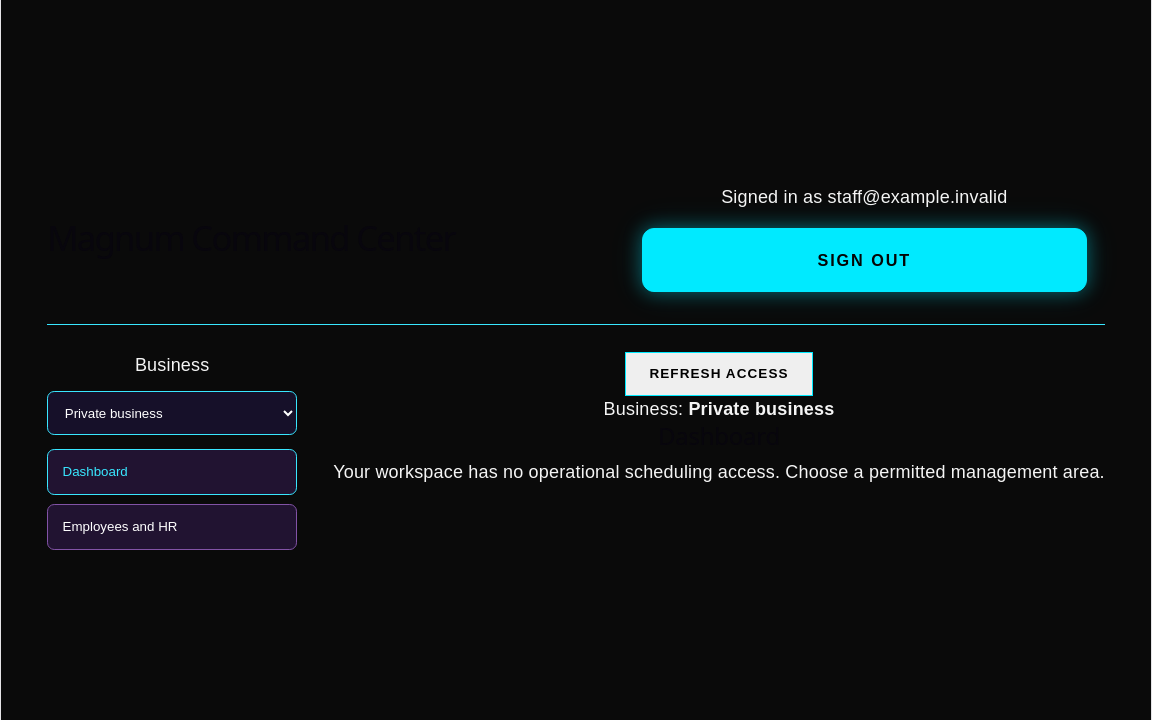
Scenario: refresh clears stale private context when permission has been revoked
Expected: the button "Employees and HR" is shown, top-left (47, 504), bottom-right (297, 550)
Click the button "Refresh access".
click(719, 374)  # box top-left (625, 352), bottom-right (813, 396)
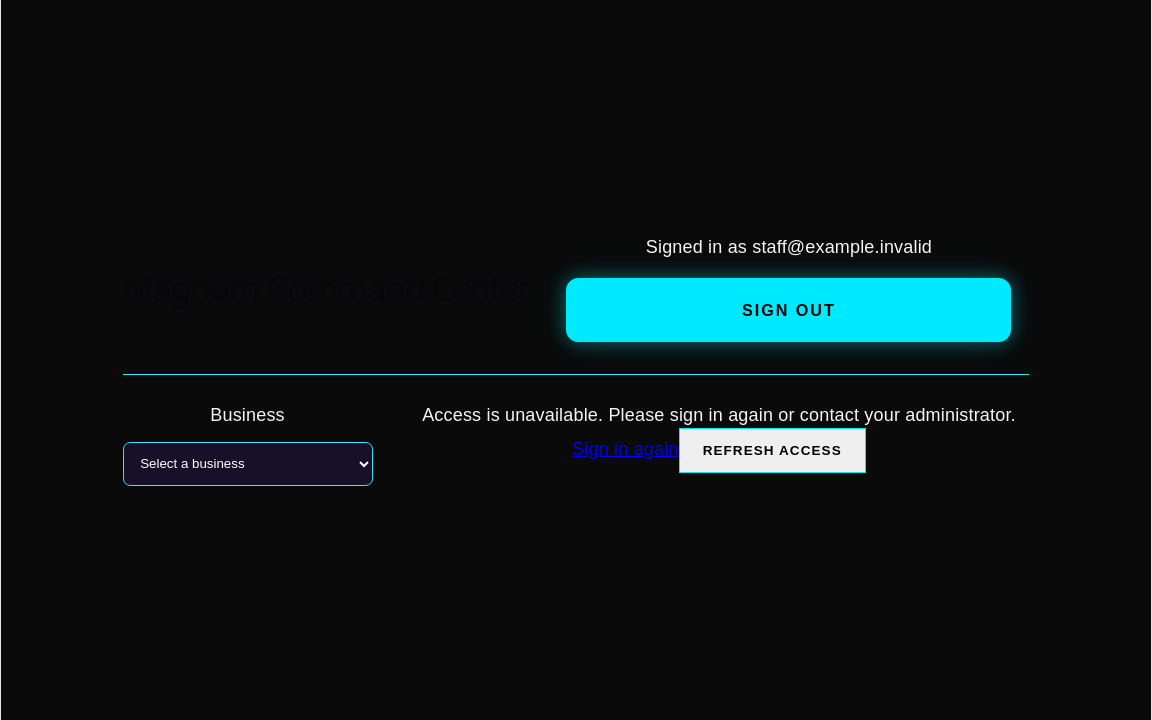
Expected: the text "Access is unavailable. Please sign in again or contact your administrator." is shown, top-left (408, 402), bottom-right (1029, 428)
Expected: the text "Private business" is gone
Expected: the button "Employees and HR" is gone
